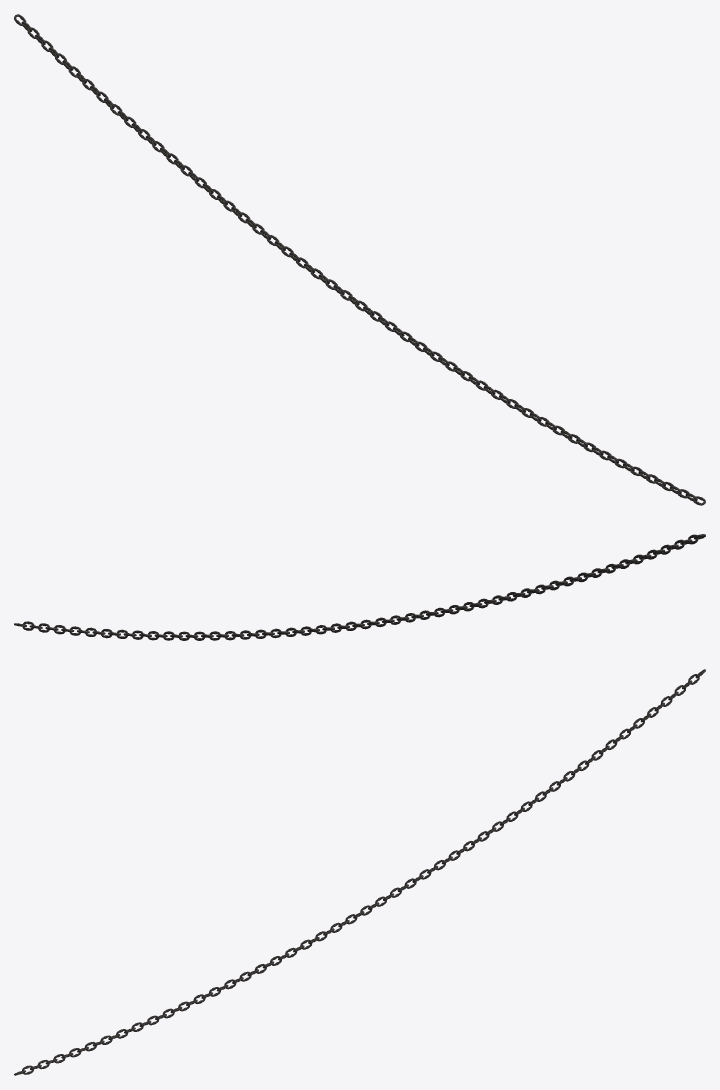
The picture shows the model from 3 angles, top to bottom: view 1: azimuth 30°, elevation 25°; view 2: azimuth 210°, elevation 25°; view 3: azimuth 270°, elevation 25°; orthographic projection. The views are drawn at different scales.
Parts seen in each view (by area): view 1: Mesh_Chain_Forge_4; view 2: Mesh_Chain_Forge_4; view 3: Mesh_Chain_Forge_4.
Boxes of the visible parts, box(x1,y1,x2,y2) form: Mesh_Chain_Forge_4: box(14, 14, 705, 505); Mesh_Chain_Forge_4: box(14, 534, 705, 640); Mesh_Chain_Forge_4: box(14, 669, 705, 1075).
Size of the model in its own units: 36.23 by 31.77 by 74.47.
1 material, 1 textured.
